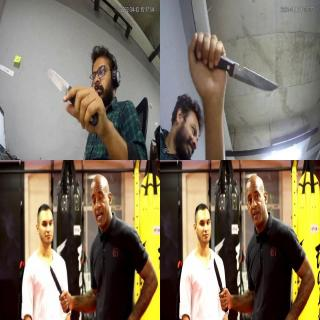knife: (227, 54, 279, 96), (43, 65, 75, 101), (48, 263, 70, 315), (212, 255, 229, 315)
